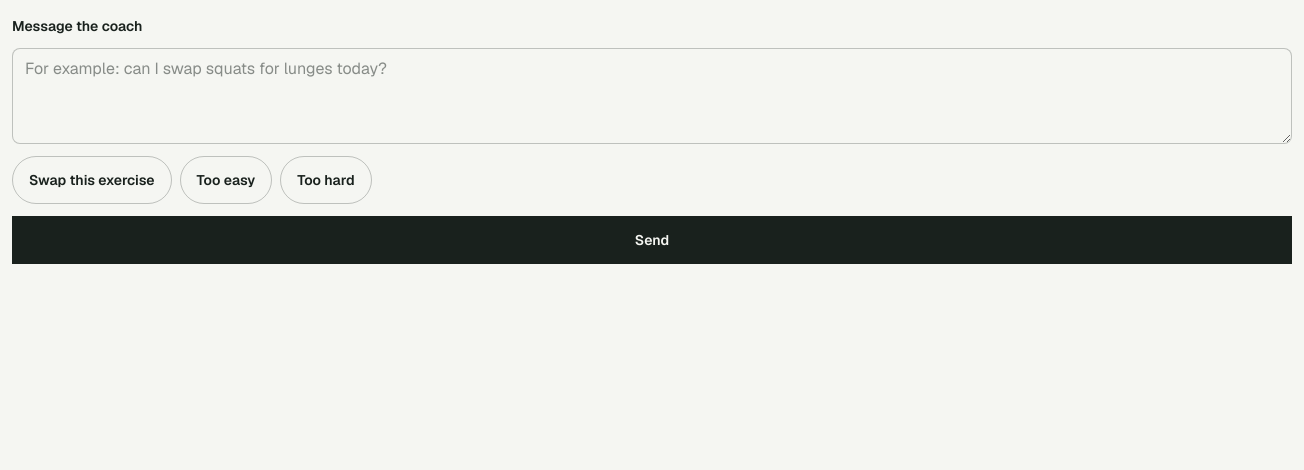
Test case: streaming coach form › keeps partial text and a Send again option after a network interruption
In the text box labelled "Message the coach": (652, 96) [12,48,1292,144], type "How long should I rest?"
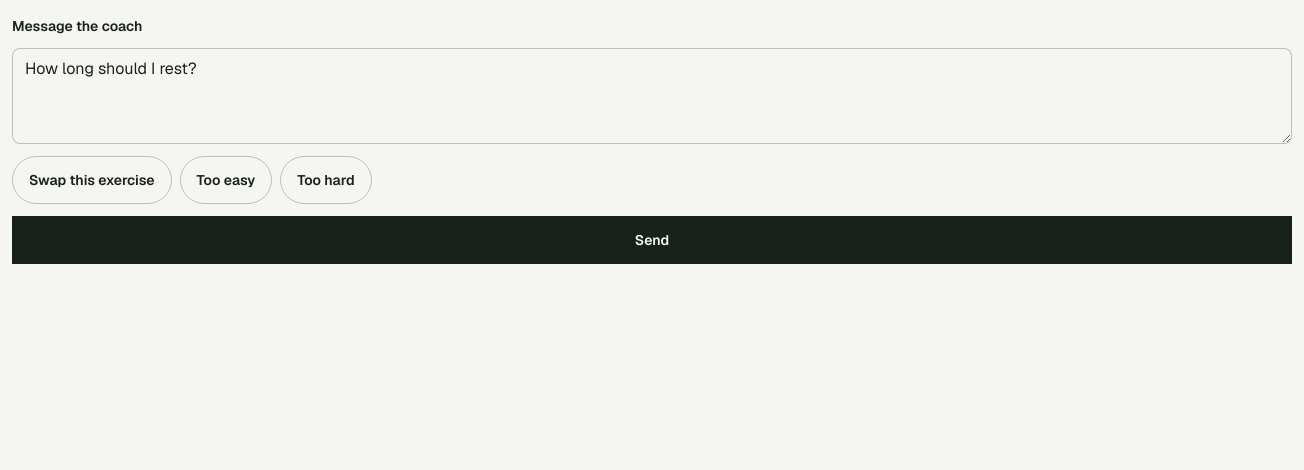
Submit the form "Send", box [12,16,1292,264]
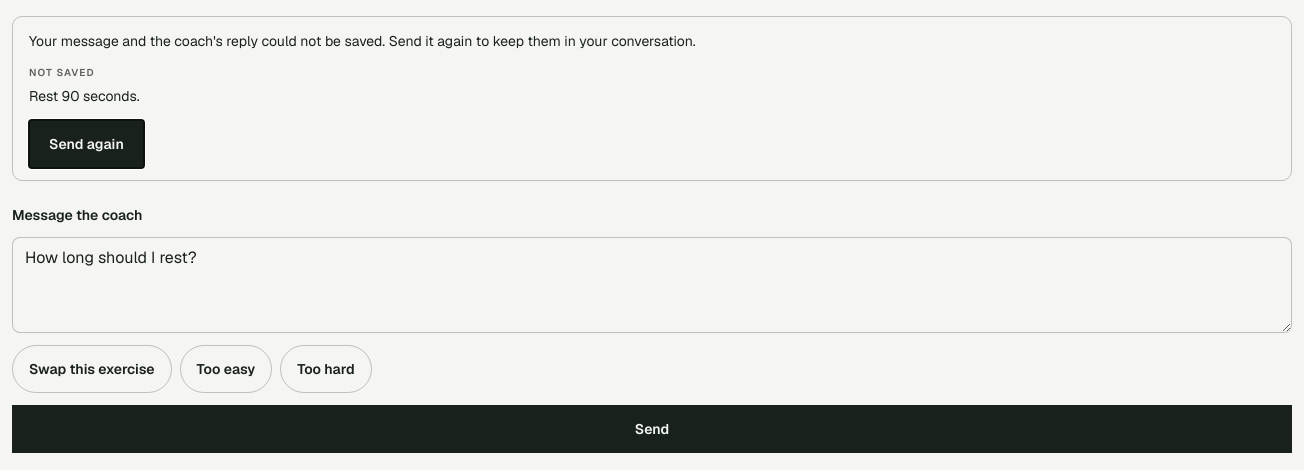
Check: the button "Send again" is shown, box [29,120,144,168]
Check: the message shows "Rest 90 seconds.", box [29,87,140,105]
